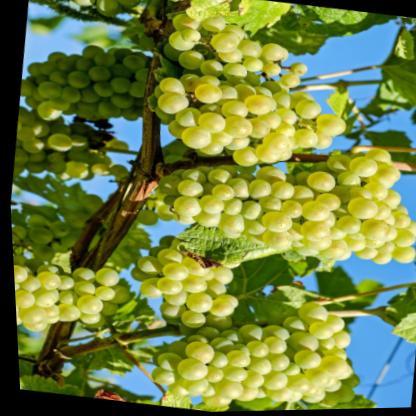--: (138, 129, 416, 292), (122, 57, 366, 186), (127, 295, 357, 414), (10, 246, 125, 362)
